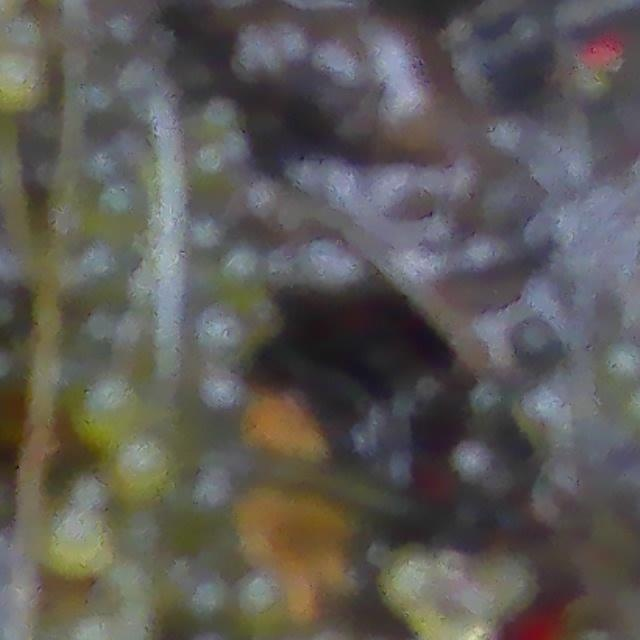SeaGrape: (453, 235, 519, 309)
